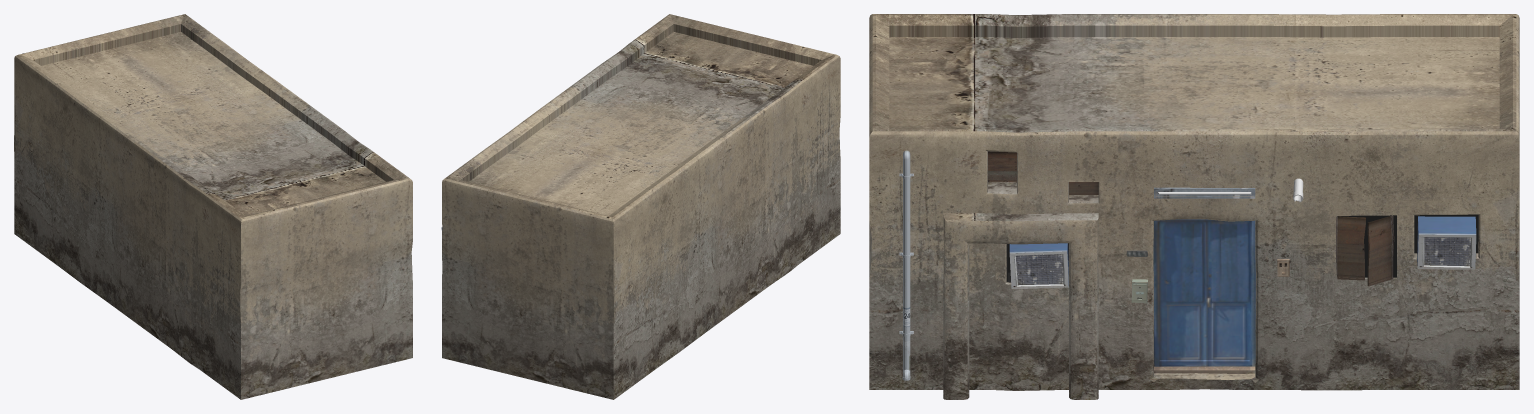
3 renders of one model, left to right at view 1: azimuth 30°, elevation 25°; view 2: azimuth 150°, elevation 25°; view 3: azimuth 270°, elevation 25°, orthographic. The views are drawn at different scales.
Visible parts, largest first — view 1: Cube.001; view 2: Cube.001; view 3: Cube.001.
Boxes of the visible parts, x1,y1,x2,y2 form: Cube.001: (14,14,412,399); Cube.001: (441,14,840,399); Cube.001: (869,14,1519,399).
Size of the model in its own units: 3.77 by 3.46 by 7.86.
12 materials, 8 textured.
